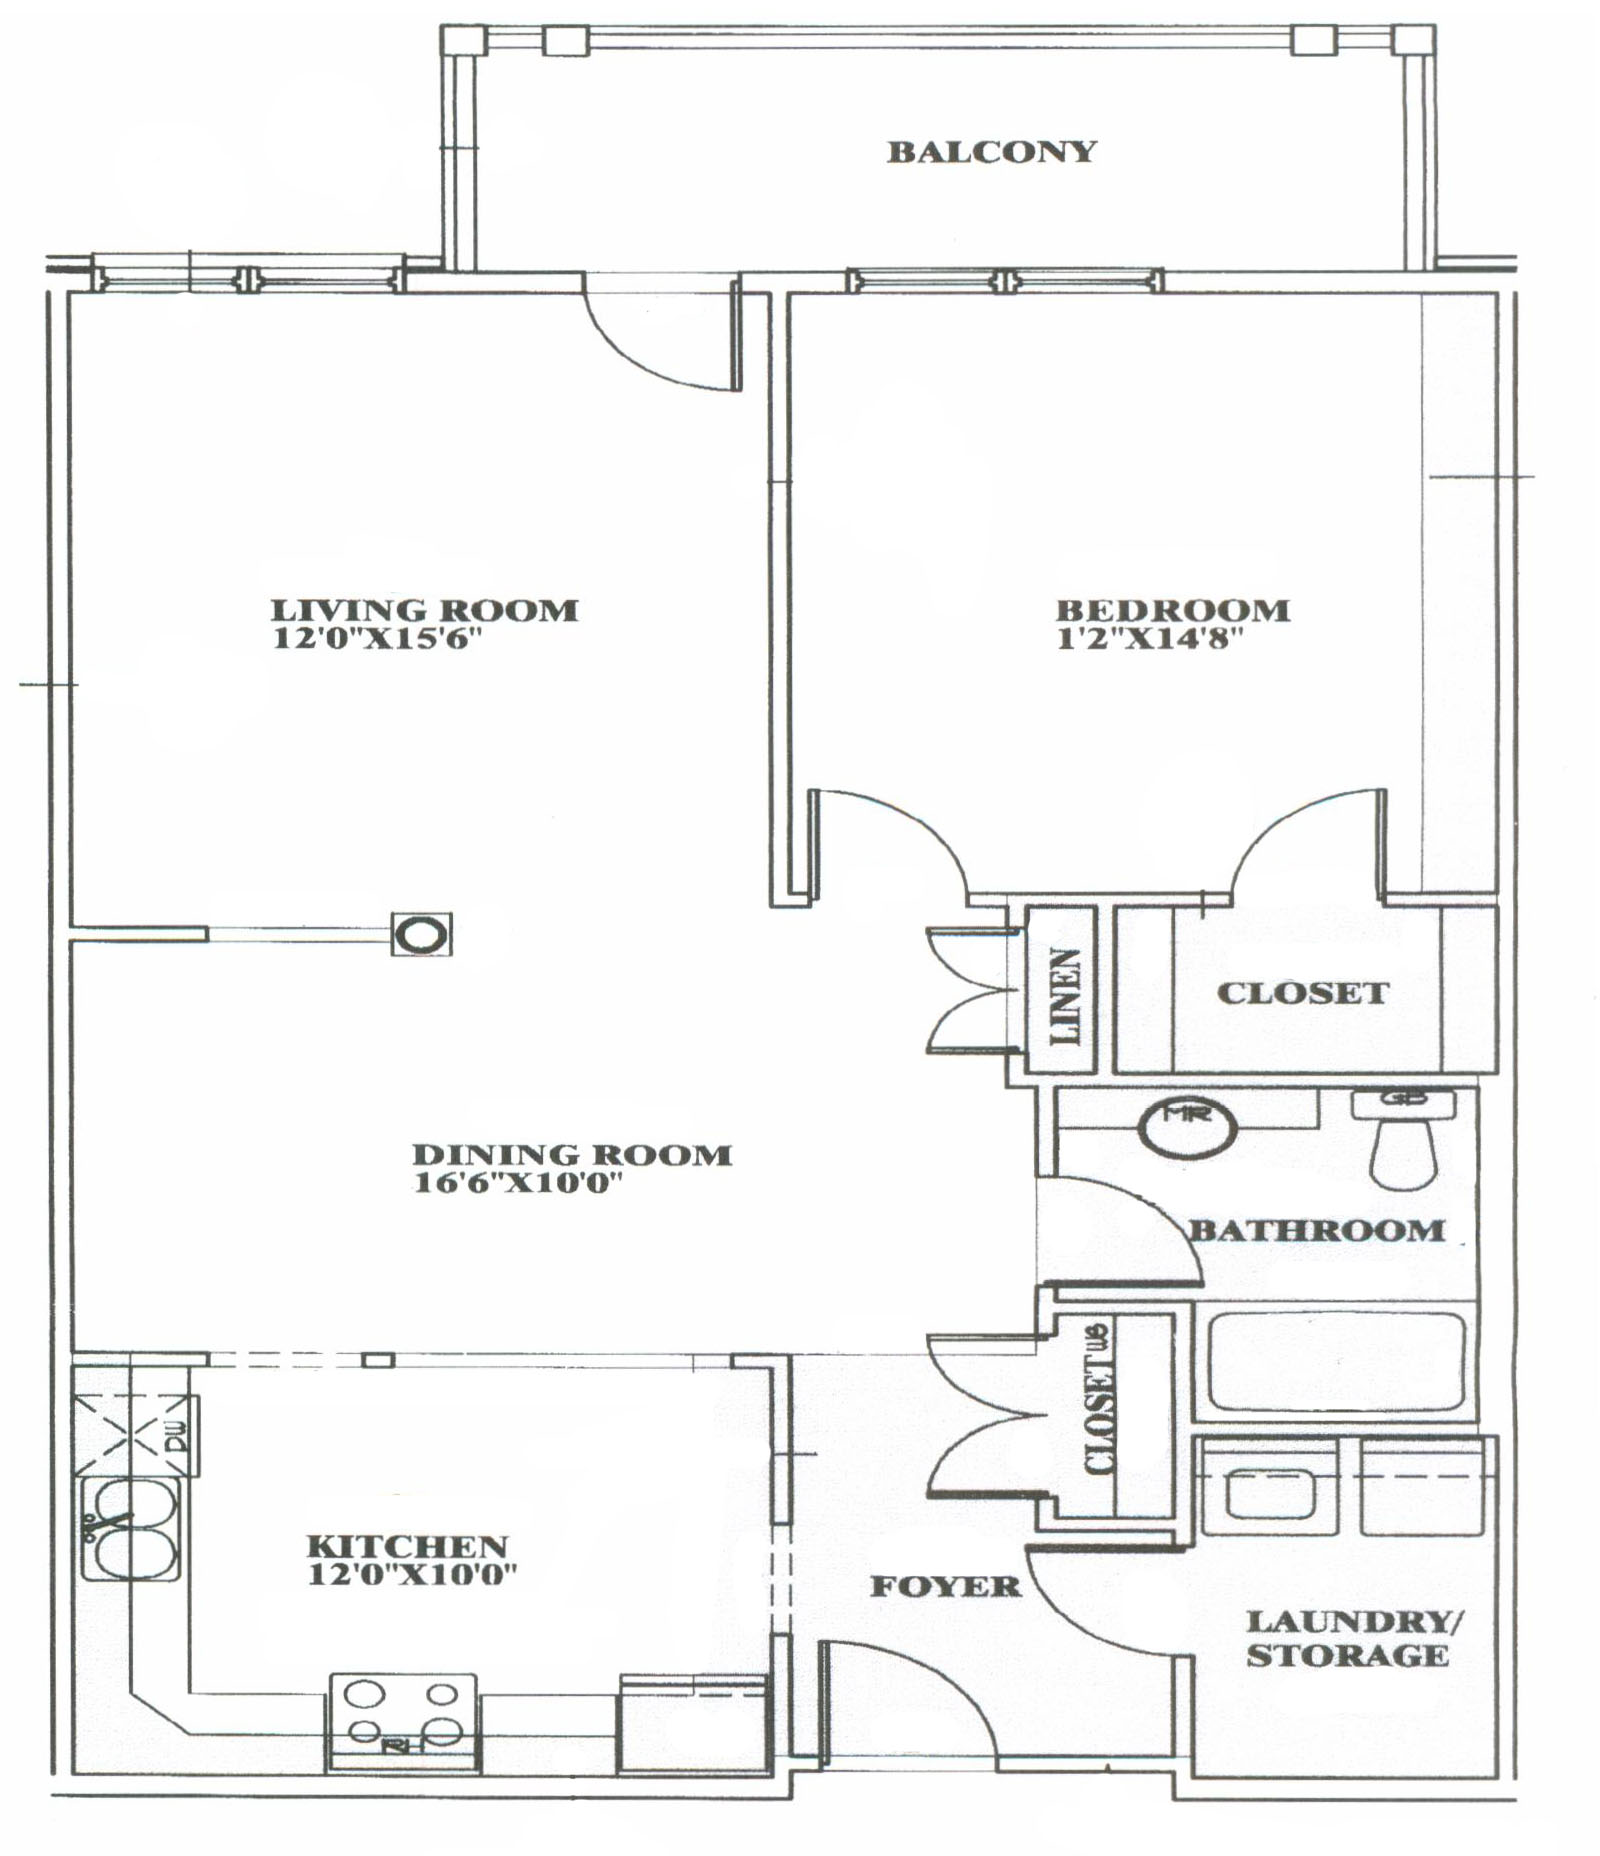room: (46, 254, 802, 928), (772, 259, 1531, 907), (44, 922, 1049, 1341), (47, 1348, 798, 1799), (1169, 1433, 1521, 1793), (1048, 1059, 1521, 1313)
